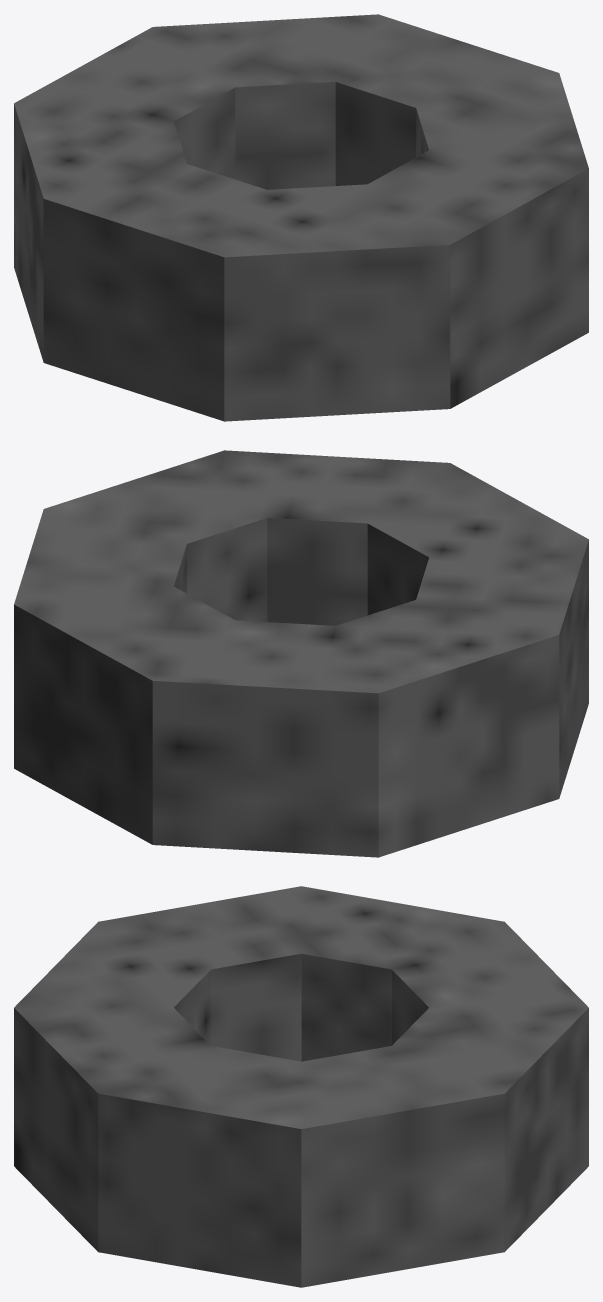
File: Scrap3.fbx
3 views of the same model, one above another, from view 1: azimuth 30°, elevation 25°; view 2: azimuth 150°, elevation 25°; view 3: azimuth 270°, elevation 25° (orthographic). The views are drawn at different scales.
Parts seen in each view (by area): view 1: Cylinder.003; view 2: Cylinder.003; view 3: Cylinder.003.
Boxes of the visible parts, bbox=[...] form: Cylinder.003: bbox=[14, 14, 588, 421]; Cylinder.003: bbox=[14, 450, 588, 857]; Cylinder.003: bbox=[14, 886, 588, 1287].
Size of the model in its own units: 64.71 by 19.69 by 64.71.
